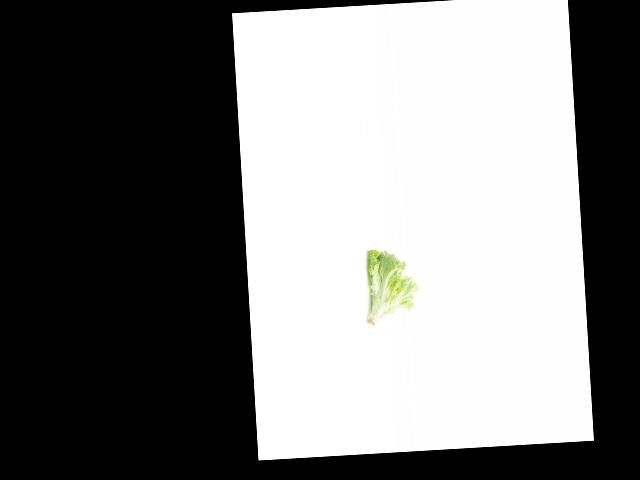lettuce: (361, 247, 421, 328)
